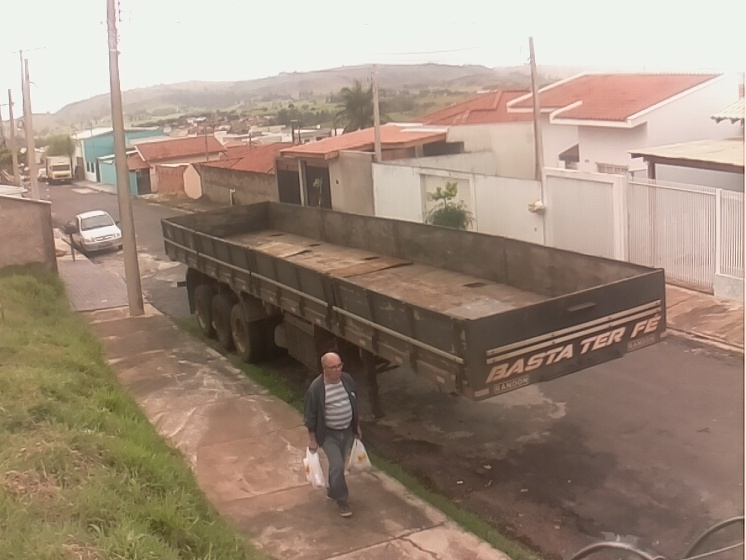person: (303, 351, 364, 518)
